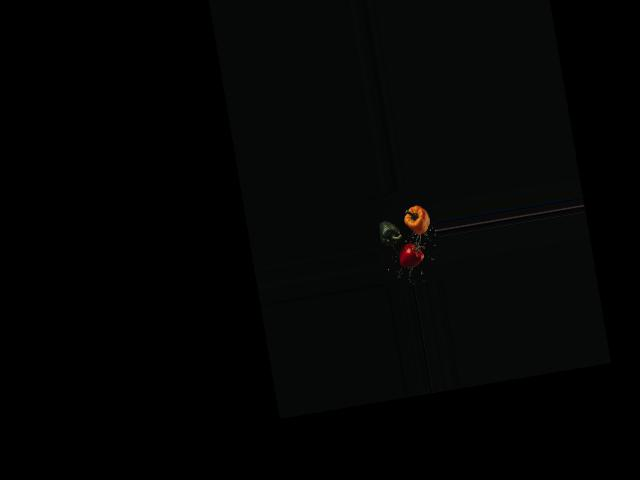bell_pepper: (391, 235, 431, 270)
